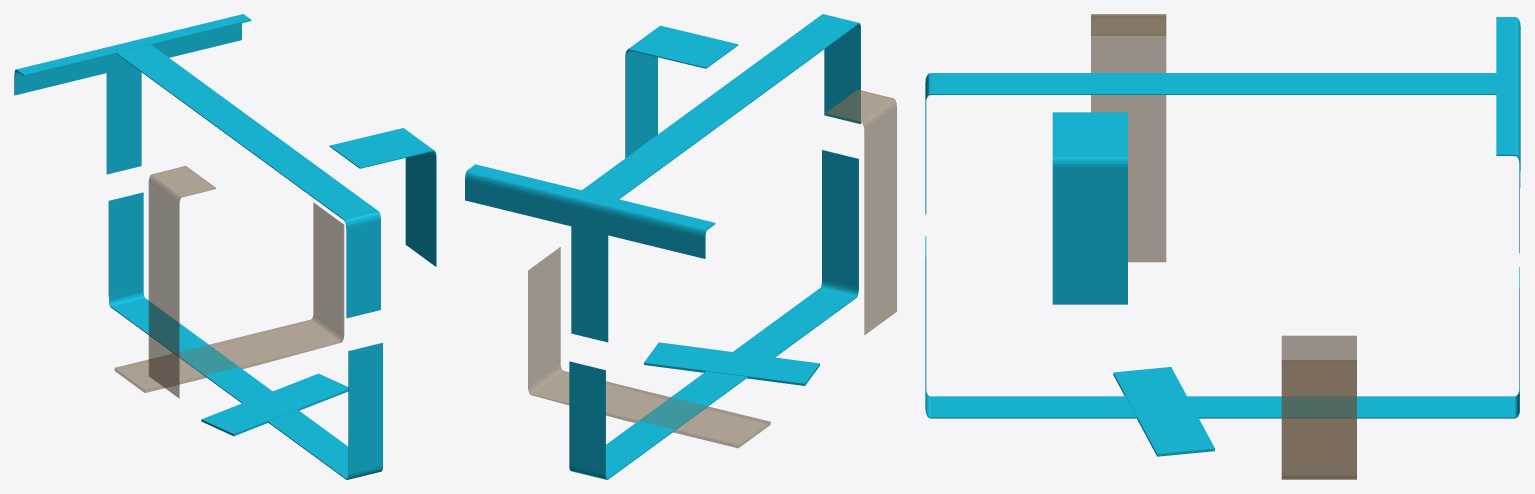
Rendered from tape_close_8.fbx.
3 renders of one model, left to right at view 1: azimuth 30°, elevation 25°; view 2: azimuth 150°, elevation 25°; view 3: azimuth 270°, elevation 25°, orthographic. The views are drawn at different scales.
Parts seen in each view (by area): view 1: tape_0.022, 평면.085, 평면.081, 평면.080, 평면.082, 평면.087; view 2: tape_0.022, 평면.085, 평면.082, 평면.081, 평면.080, 평면.087; view 3: tape_0.022, 평면.080, 평면.081, 평면.085, 평면.087, 평면.082.
Part boxes in pixels (left/top/right/bottom): tape_0.022: left=106, top=44, right=382, bottom=479; 평면.085: left=114, top=202, right=344, bottom=392; 평면.081: left=148, top=165, right=215, bottom=398; 평면.080: left=329, top=128, right=436, bottom=266; 평면.082: left=14, top=14, right=251, bottom=95; 평면.087: left=201, top=373, right=348, bottom=436; tape_0.022: left=569, top=14, right=860, bottom=479; 평면.085: left=528, top=247, right=770, bottom=448; 평면.082: left=465, top=164, right=715, bottom=258; 평면.081: left=825, top=89, right=896, bottom=334; 평면.080: left=625, top=25, right=738, bottom=157; 평면.087: left=644, top=342, right=819, bottom=385; tape_0.022: left=925, top=73, right=1519, bottom=418; 평면.080: left=1052, top=112, right=1127, bottom=304; 평면.081: left=1091, top=14, right=1166, bottom=262; 평면.085: left=1281, top=335, right=1356, bottom=479; 평면.087: left=1113, top=367, right=1214, bottom=456; 평면.082: left=1496, top=17, right=1520, bottom=188.
Size of the model in its own units: 146 by 152 by 251.
